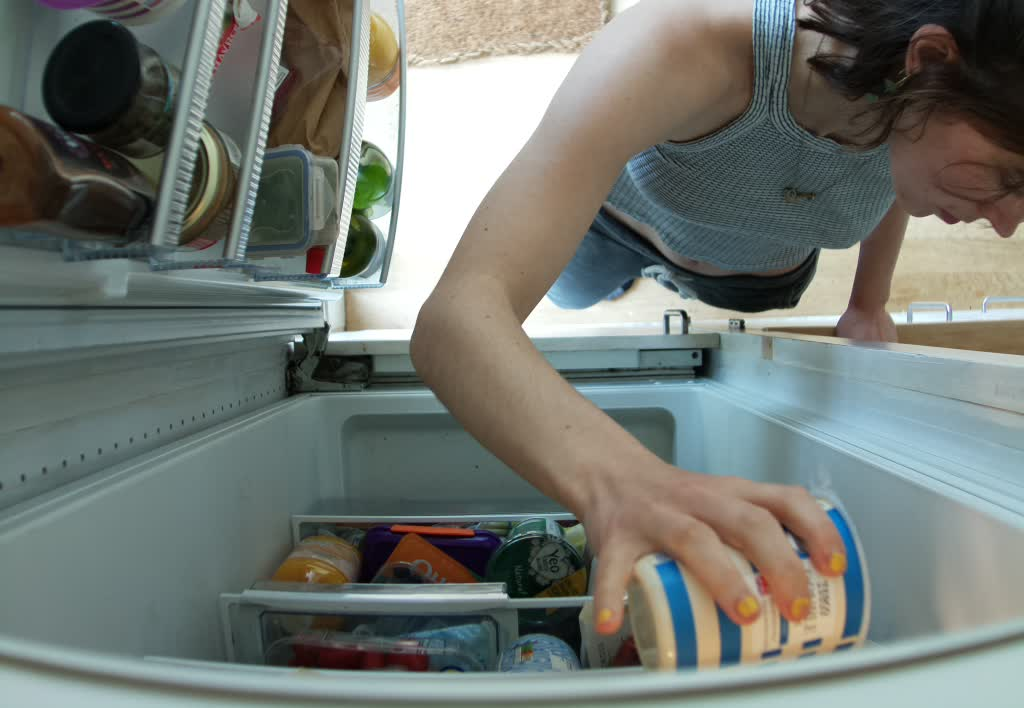cream: (626, 491, 873, 673)
